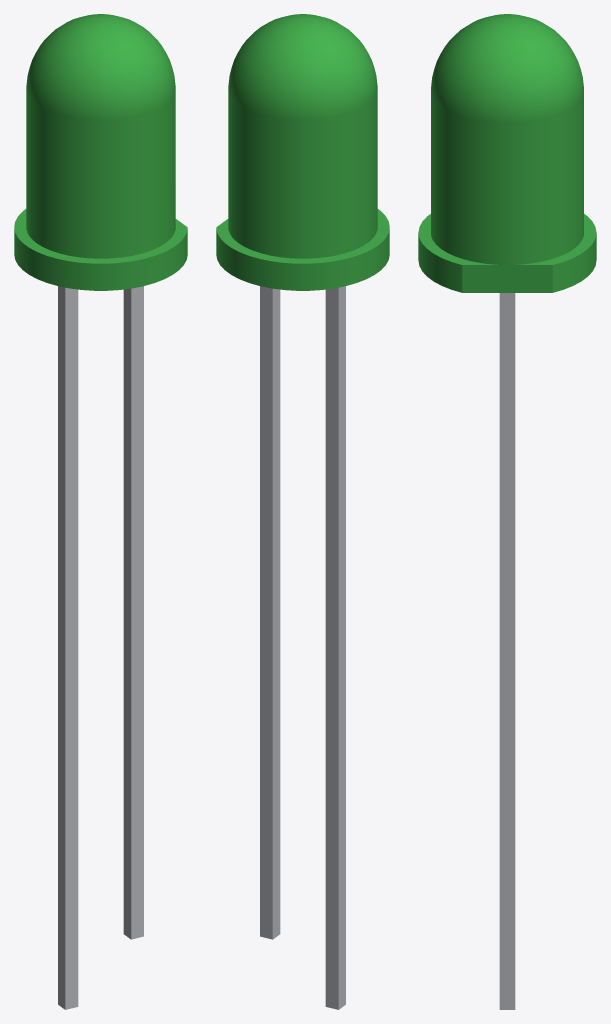
Rendered from led-5mm-green.glb.
3 renders of one model, left to right at view 1: azimuth 30°, elevation 25°; view 2: azimuth 150°, elevation 25°; view 3: azimuth 270°, elevation 25°, orthographic. The views are drawn at different scales.
Visible parts, largest first — view 1: body, lead-1, lead-2; view 2: body, lead-1, lead-2; view 3: body, lead-2.
Boxes of the visible parts, box(x1,y1,x2,y2) form: body: box(14, 14, 187, 290); lead-1: box(58, 286, 78, 1009); lead-2: box(123, 286, 143, 939); body: box(216, 14, 389, 290); lead-1: box(325, 286, 345, 1009); lead-2: box(260, 286, 280, 939); body: box(418, 14, 596, 292); lead-2: box(499, 293, 515, 987).
Size of the model in its own units: 0.00539 by 0.036 by 0.0058.
